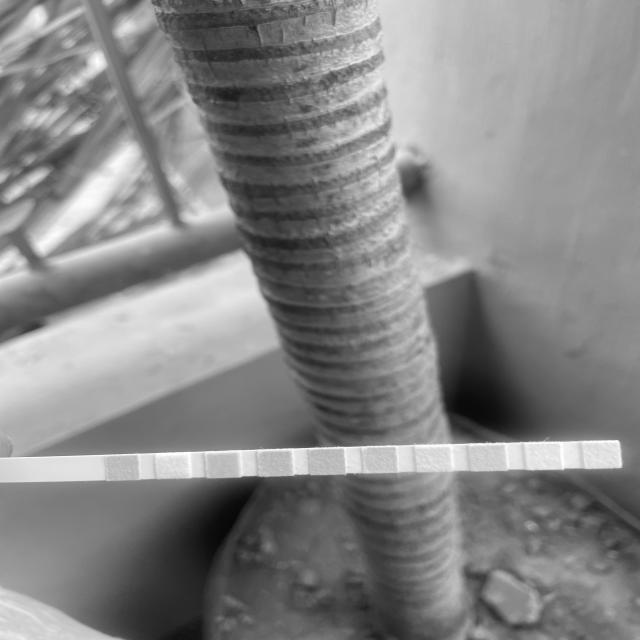Bilirubin: (156, 455, 190, 478)
Blood: (311, 449, 344, 475)
Glucose: (105, 456, 138, 480)
Ketone: (206, 452, 240, 478)
Leukocytes: (585, 442, 619, 468)
Nitrite: (526, 443, 560, 470)
Protein: (417, 446, 451, 472)
SpGravity: (259, 450, 292, 476)
Urobilinogen: (470, 445, 505, 471)
background: (0, 0, 640, 640)
pH: (363, 447, 396, 473)
strip: (1, 441, 623, 483)
